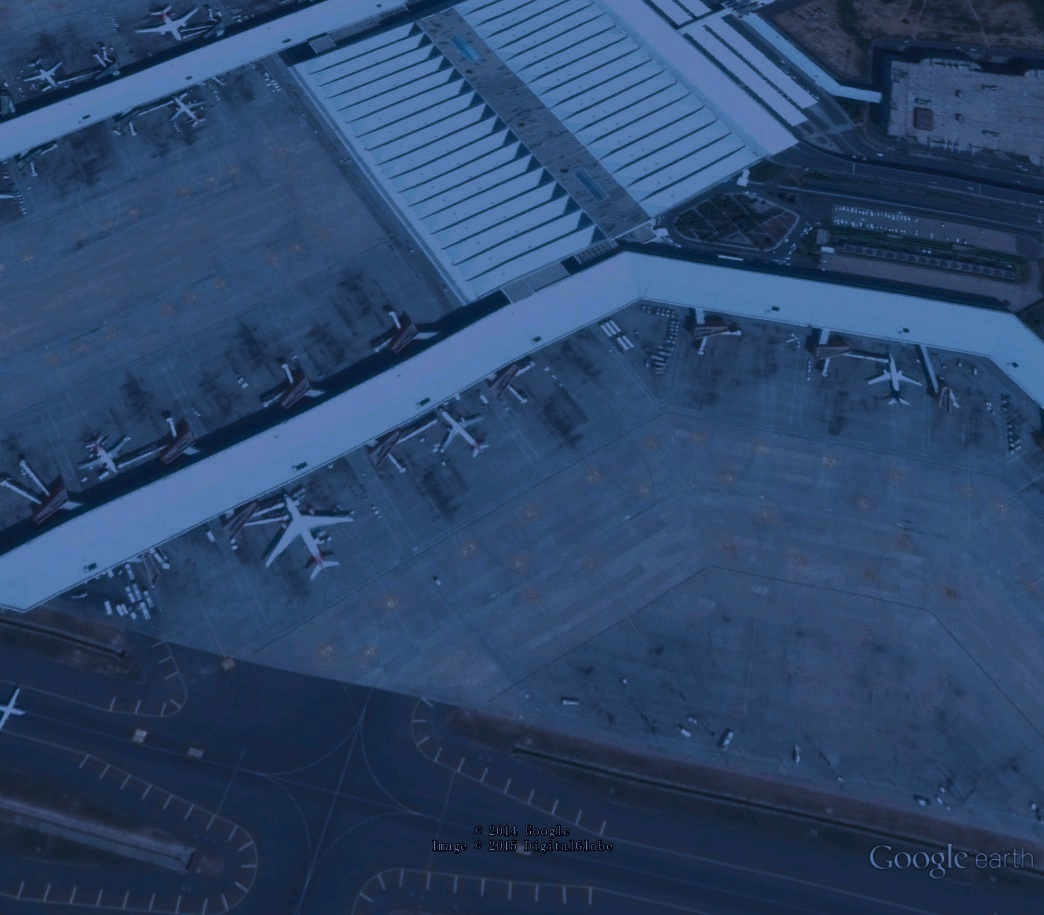aircraft: (256, 489, 361, 585), (861, 352, 924, 412), (433, 402, 493, 463), (130, 4, 204, 45), (78, 427, 130, 484), (16, 52, 70, 91), (0, 681, 33, 738), (166, 93, 208, 135)
